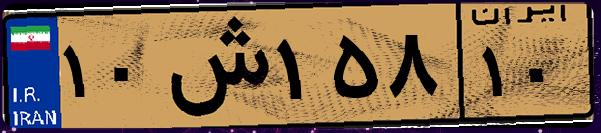0: (525, 38, 570, 115), (110, 28, 158, 98)
1: (270, 28, 330, 110), (57, 26, 110, 100), (475, 38, 525, 113)
5: (330, 28, 385, 110)
8: (385, 28, 445, 110)
ش: (158, 12, 270, 120)
